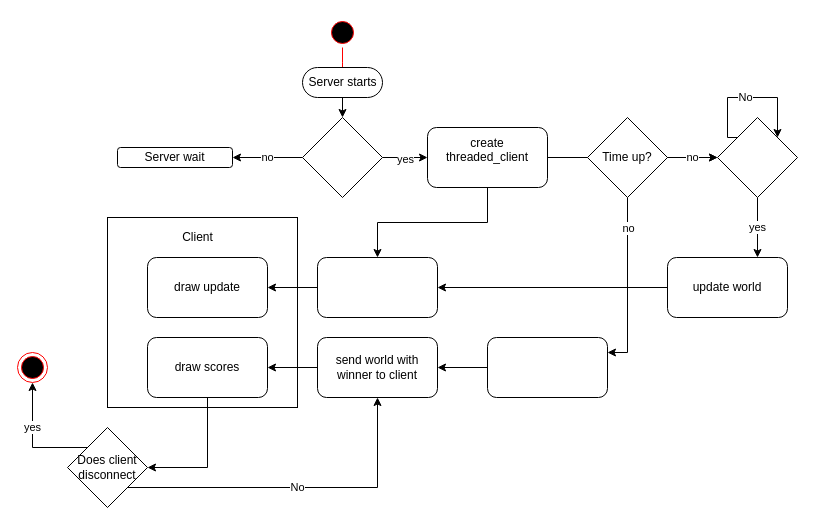
The diagram is 815 pixels wide and 525 high, and some of its shapes have lost their labels. The shapes that lost their labels are listed below. From the top down, each one's box as (x1, y1, x2, y2) in pixels, then its label:
(302, 116, 382, 198): Client conn
(716, 116, 798, 198): client send update?
(316, 256, 438, 318): send world to client
(486, 336, 608, 398): update world with winner
